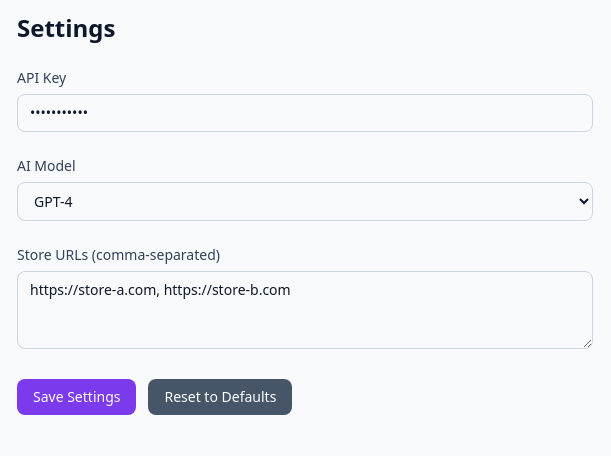
Test case: SettingsForm › validates the API key minimum length with an accessible error
Type "short" into the password field labelled "API Key" at (305, 113), box [17, 94, 593, 132]
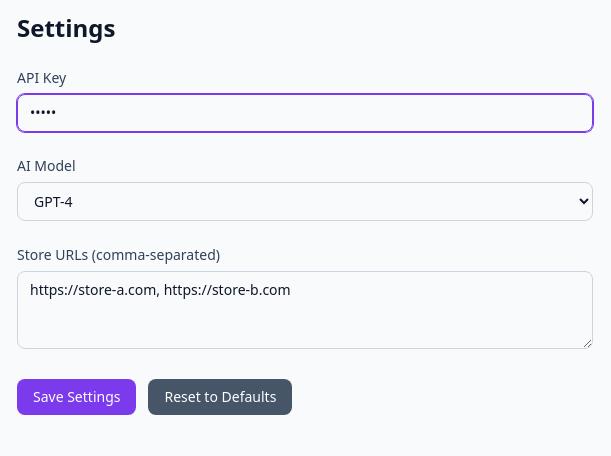
Click the button "Save Settings" at (77, 397), box [17, 379, 136, 415]
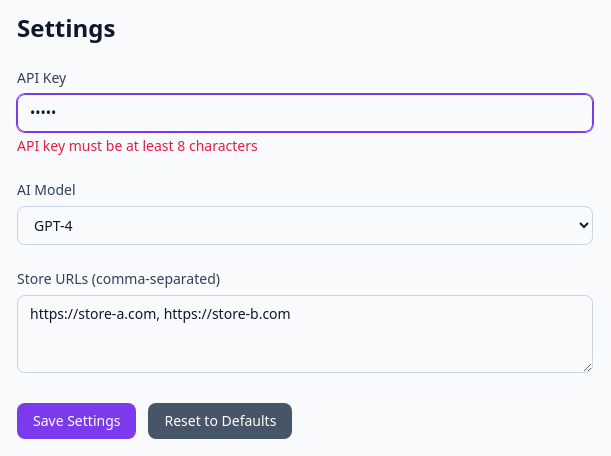
expect the message shows "at least 8 characters": met, box [17, 136, 258, 155]
